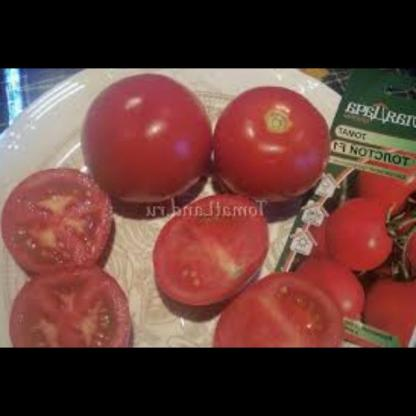tomato: (82, 73, 216, 201), (150, 186, 270, 309), (209, 85, 333, 204), (1, 163, 113, 272), (208, 268, 350, 346), (10, 266, 134, 346), (320, 199, 398, 280), (297, 247, 371, 317), (357, 266, 416, 342), (347, 149, 416, 212)
